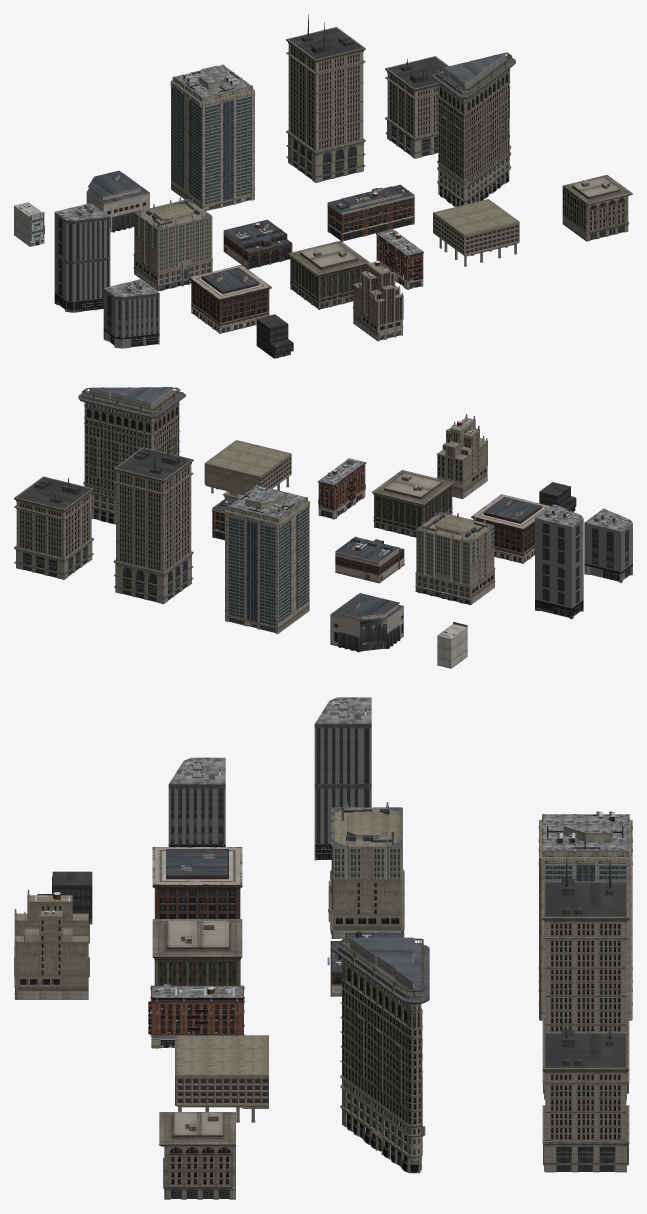
File: downtown_buildings_set_-_low_poly_model.glb
The picture shows the model from 3 angles, top to bottom: view 1: azimuth 30°, elevation 25°; view 2: azimuth 150°, elevation 25°; view 3: azimuth 270°, elevation 25°; orthographic projection. The views are drawn at different scales.
Visible parts, largest first — view 1: Downtown_ClassicOffice_1_Downtown_Facade_FLR_3_0, Downtown_ModernOffice_5_Downtown_Facade_FLR_4_0, Downtown_BrownstoneOffice_1_Downtown_Facade_FLR_2_0, Downtown_ClassicOffice_1_Downtown_Concrete_FLR_1_0, Downtown_ModernOffice_3_Downtown_Modern_Firstfloor_FLR_1_0, Downtown_ModernOffice_4_Downtown_International_Side_1_0, Downtown_ClassicOffice_1_Downtown_Facade_FLR_1_0, Downtown_ModernOffice_1_Downtown_Firstfloortrim_FLR_1_0, Downtown_BrownstoneOffice_2_Downtown_Firstfloor_FLR_2_0, Downtown_ModernOffice_3_Downtown_Facade_FLR_7_0, Downtown_BrownstoneOffice_2_Brownstone_Facade_Flr_2_0, Downtown_ModernOffice_2_Downtown_Facade_FLR_8_0 (+1 smaller); view 2: Downtown_ModernOffice_5_Downtown_Facade_FLR_4_0, Downtown_ClassicOffice_1_Downtown_Facade_FLR_3_0, Downtown_ClassicOffice_1_Downtown_Concrete_FLR_1_0, Downtown_BrownstoneOffice_1_Downtown_Facade_FLR_2_0, Downtown_ModernOffice_3_Downtown_Modern_Firstfloor_FLR_1_0, Downtown_ModernOffice_4_Downtown_International_Side_1_0, Downtown_ClassicOffice_1_Downtown_Facade_FLR_1_0, Downtown_ModernOffice_1_Downtown_Firstfloortrim_FLR_1_0, Downtown_BrownstoneOffice_2_Downtown_Firstfloor_FLR_2_0, Downtown_BrownstoneOffice_2_Brownstone_Facade_Flr_2_0, Downtown_ModernOffice_3_Downtown_Facade_FLR_7_0, Downtown_ModernOffice_2_Downtown_Facade_FLR_8_0; view 3: Downtown_ClassicOffice_1_Downtown_Facade_FLR_3_0, Downtown_ClassicOffice_1_Downtown_Concrete_FLR_1_0, Downtown_ModernOffice_5_Downtown_Facade_FLR_4_0, Downtown_ModernOffice_3_Downtown_Modern_Firstfloor_FLR_1_0, Downtown_BrownstoneOffice_1_Downtown_Facade_FLR_2_0, Downtown_ClassicOffice_1_Downtown_Facade_FLR_1_0, Downtown_BrownstoneOffice_2_Downtown_Firstfloor_FLR_2_0, Downtown_ModernOffice_1_Downtown_Firstfloortrim_FLR_1_0, Downtown_BrownstoneOffice_2_Brownstone_Facade_Flr_2_0, Downtown_ModernOffice_3_Downtown_Facade_FLR_7_0, Downtown_ModernOffice_4_Downtown_International_Side_1_0.
Part boxes in pixels (box(x1,y1,x2,y2)): Downtown_ClassicOffice_1_Downtown_Facade_FLR_3_0: box(133, 52, 632, 341); Downtown_ModernOffice_5_Downtown_Facade_FLR_4_0: box(286, 27, 448, 182); Downtown_BrownstoneOffice_1_Downtown_Facade_FLR_2_0: box(86, 170, 423, 333); Downtown_ClassicOffice_1_Downtown_Concrete_FLR_1_0: box(134, 64, 519, 341); Downtown_ModernOffice_3_Downtown_Modern_Firstfloor_FLR_1_0: box(58, 14, 623, 358); Downtown_ModernOffice_4_Downtown_International_Side_1_0: box(171, 86, 251, 205); Downtown_ClassicOffice_1_Downtown_Facade_FLR_1_0: box(134, 52, 515, 291); Downtown_ModernOffice_1_Downtown_Firstfloortrim_FLR_1_0: box(54, 204, 159, 348); Downtown_BrownstoneOffice_2_Downtown_Firstfloor_FLR_2_0: box(55, 65, 422, 348); Downtown_ModernOffice_3_Downtown_Facade_FLR_7_0: box(107, 294, 293, 354); Downtown_BrownstoneOffice_2_Brownstone_Facade_Flr_2_0: box(376, 229, 423, 281); Downtown_ModernOffice_2_Downtown_Facade_FLR_8_0: box(14, 202, 44, 246); Downtown_ModernOffice_5_Downtown_Facade_FLR_4_0: box(14, 447, 193, 604); Downtown_ClassicOffice_1_Downtown_Facade_FLR_3_0: box(78, 387, 495, 599); Downtown_ClassicOffice_1_Downtown_Concrete_FLR_1_0: box(204, 417, 494, 633); Downtown_BrownstoneOffice_1_Downtown_Facade_FLR_2_0: box(212, 460, 550, 646); Downtown_ModernOffice_3_Downtown_Modern_Firstfloor_FLR_1_0: box(17, 433, 579, 652); Downtown_ModernOffice_4_Downtown_International_Side_1_0: box(228, 507, 308, 626); Downtown_ClassicOffice_1_Downtown_Facade_FLR_1_0: box(78, 387, 494, 605); Downtown_ModernOffice_1_Downtown_Firstfloortrim_FLR_1_0: box(535, 513, 632, 619); Downtown_BrownstoneOffice_2_Downtown_Firstfloor_FLR_2_0: box(228, 419, 632, 632); Downtown_BrownstoneOffice_2_Brownstone_Facade_Flr_2_0: box(317, 458, 366, 510); Downtown_ModernOffice_3_Downtown_Facade_FLR_7_0: box(539, 487, 628, 568); Downtown_ModernOffice_2_Downtown_Facade_FLR_8_0: box(437, 624, 467, 668); Downtown_ClassicOffice_1_Downtown_Facade_FLR_3_0: box(14, 802, 429, 1199); Downtown_ClassicOffice_1_Downtown_Concrete_FLR_1_0: box(14, 807, 632, 1122); Downtown_ModernOffice_5_Downtown_Facade_FLR_4_0: box(542, 881, 629, 1172); Downtown_ModernOffice_3_Downtown_Modern_Firstfloor_FLR_1_0: box(37, 728, 625, 1198); Downtown_BrownstoneOffice_1_Downtown_Facade_FLR_2_0: box(150, 847, 404, 1048); Downtown_ClassicOffice_1_Downtown_Facade_FLR_1_0: box(328, 807, 429, 1173); Downtown_BrownstoneOffice_2_Downtown_Firstfloor_FLR_2_0: box(19, 697, 631, 1047); Downtown_ModernOffice_1_Downtown_Firstfloortrim_FLR_1_0: box(168, 714, 371, 860); Downtown_BrownstoneOffice_2_Brownstone_Facade_Flr_2_0: box(151, 984, 243, 1035); Downtown_ModernOffice_3_Downtown_Facade_FLR_7_0: box(52, 788, 223, 918); Downtown_ModernOffice_4_Downtown_International_Side_1_0: box(545, 864, 626, 881).
Bounding box in the file's own units: 359 × 103 × 255.
15 materials, 15 textured.
